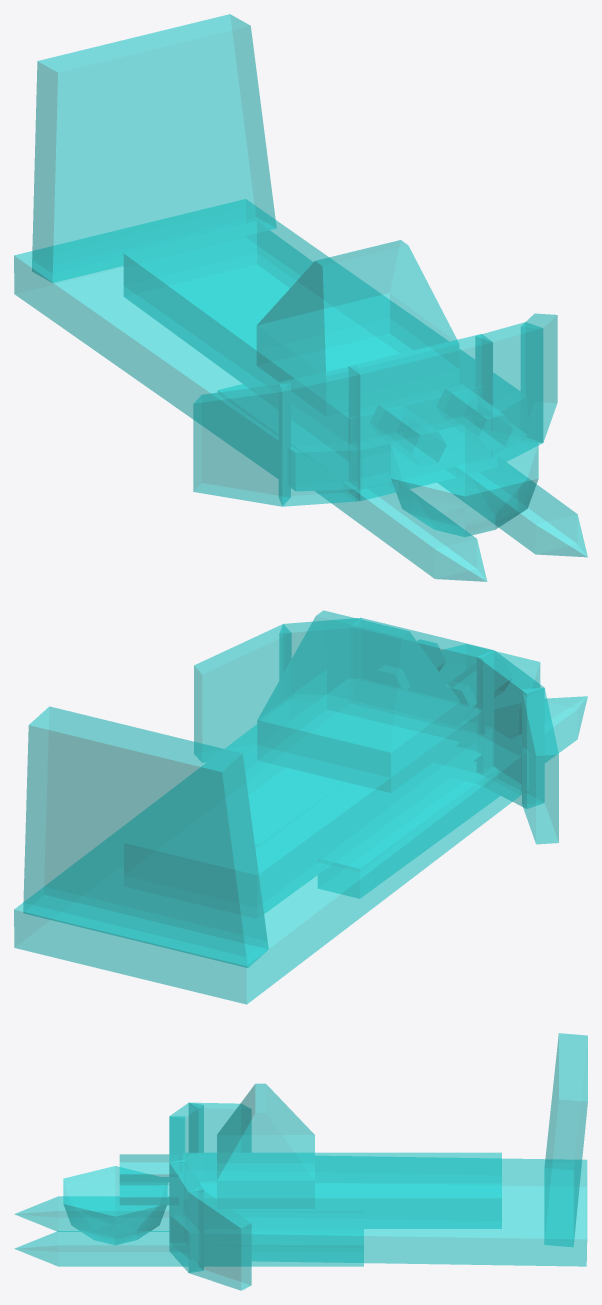
Rendered from SM_Veh_Fire_Siphon_01_Collision_01.fbx.
3 views of the same model, one above another, from view 1: azimuth 30°, elevation 25°; view 2: azimuth 150°, elevation 25°; view 3: azimuth 270°, elevation 25° (orthographic). The views are drawn at different scales.
Parts seen in each view (by area): view 1: SM_Veh_Fire_Siphon_01_Collision_01; view 2: SM_Veh_Fire_Siphon_01_Collision_01; view 3: SM_Veh_Fire_Siphon_01_Collision_01.
Boxes of the visible parts, box(x1,y1,x2,y2) form: SM_Veh_Fire_Siphon_01_Collision_01: box(14, 14, 587, 581); SM_Veh_Fire_Siphon_01_Collision_01: box(14, 610, 587, 1004); SM_Veh_Fire_Siphon_01_Collision_01: box(14, 1033, 587, 1290).
Size of the model in its own units: 332 by 219 by 643.
